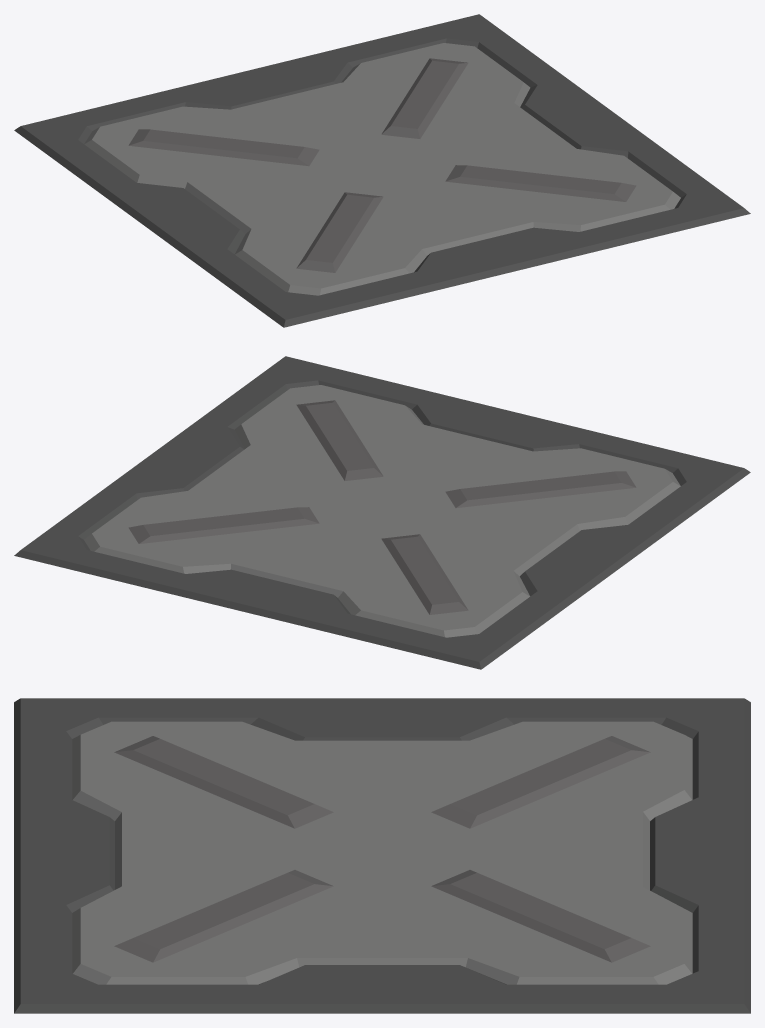
Rendered from city_SM_Env_Ground_Tile_Half_03.gltf.
3 views of the same model, one above another, from view 1: azimuth 30°, elevation 25°; view 2: azimuth 150°, elevation 25°; view 3: azimuth 270°, elevation 25° (orthographic). The views are drawn at different scales.
Parts seen in each view (by area): view 1: SM_Env_Ground_Tile_Half_03; view 2: SM_Env_Ground_Tile_Half_03; view 3: SM_Env_Ground_Tile_Half_03.
Part boxes in pixels (x1,y1,x2,y2): SM_Env_Ground_Tile_Half_03: [14, 14, 750, 327]; SM_Env_Ground_Tile_Half_03: [14, 356, 750, 669]; SM_Env_Ground_Tile_Half_03: [14, 698, 750, 1013].
Bounding box in the file's own units: 2.5 × 0.0523 × 2.5.
Materials: 1 (1 with a texture image).
